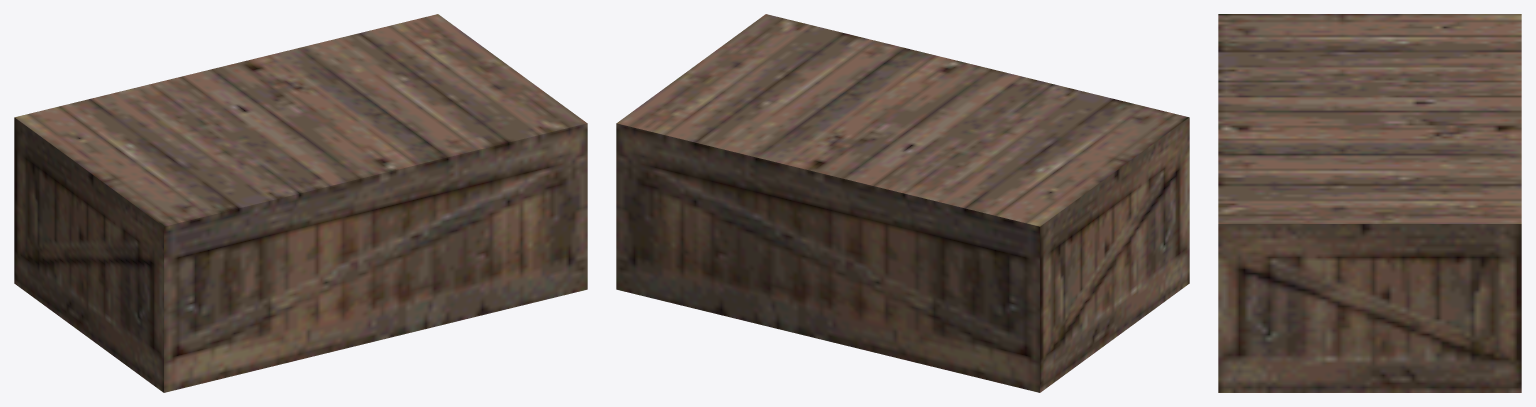
The model's file is crate_wide.glb.
3 renders of one model, left to right at view 1: azimuth 30°, elevation 25°; view 2: azimuth 150°, elevation 25°; view 3: azimuth 270°, elevation 25°, orthographic.
Visible parts, largest first — view 1: crate_wide; view 2: crate_wide; view 3: crate_wide.
Boxes of the visible parts, box(x1,y1,x2,y2) form: crate_wide: box(14, 14, 587, 392); crate_wide: box(616, 14, 1189, 392); crate_wide: box(1218, 14, 1521, 392).
Bounding box in the file's own units: 1.79 × 0.6714 × 1.09.
Materials: 1 (1 with a texture image).
